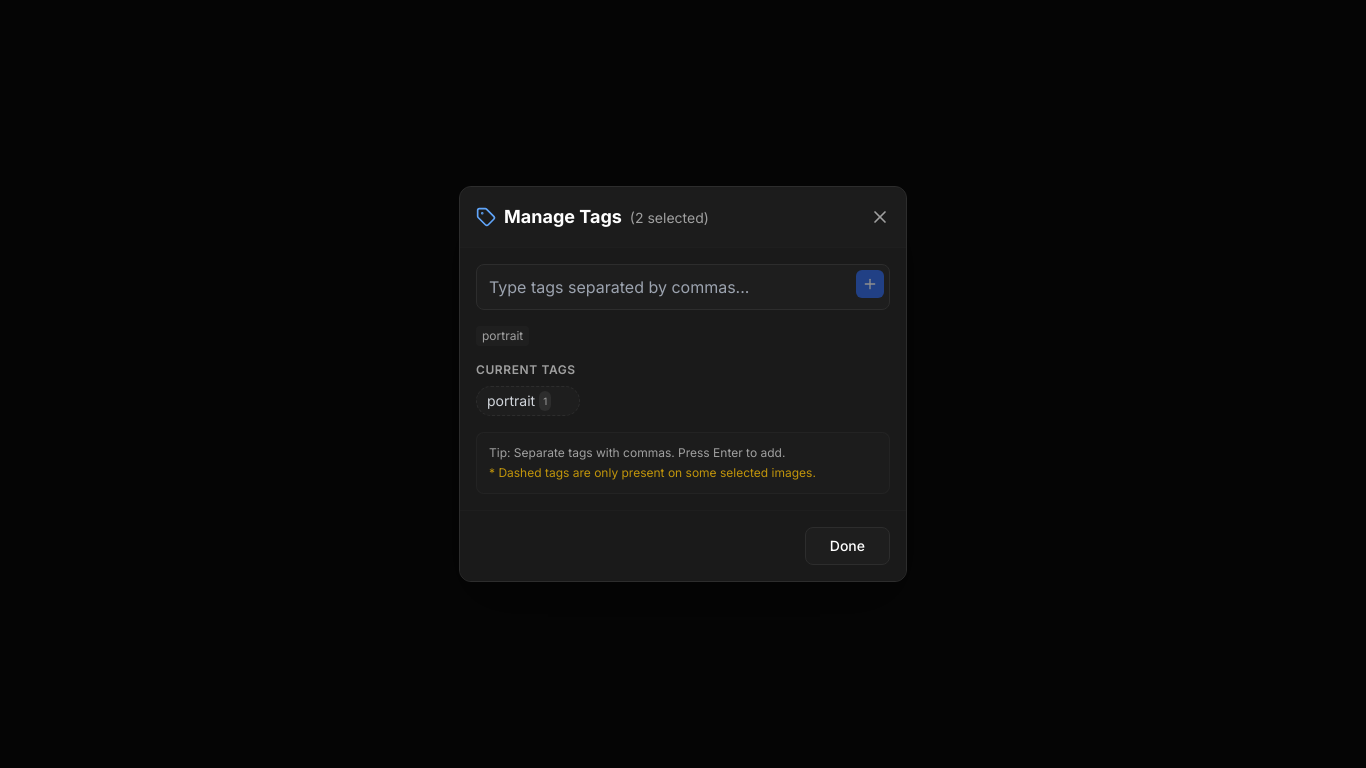
Scenario: TagManagerModal › suggests tags that are already present on part of the current selection
This screenshot has width=1366, height=768.
Type "por" into the field with placeholder "Type tags separated by commas...".
click(683, 287); type("por")  # box [476, 264, 890, 310]
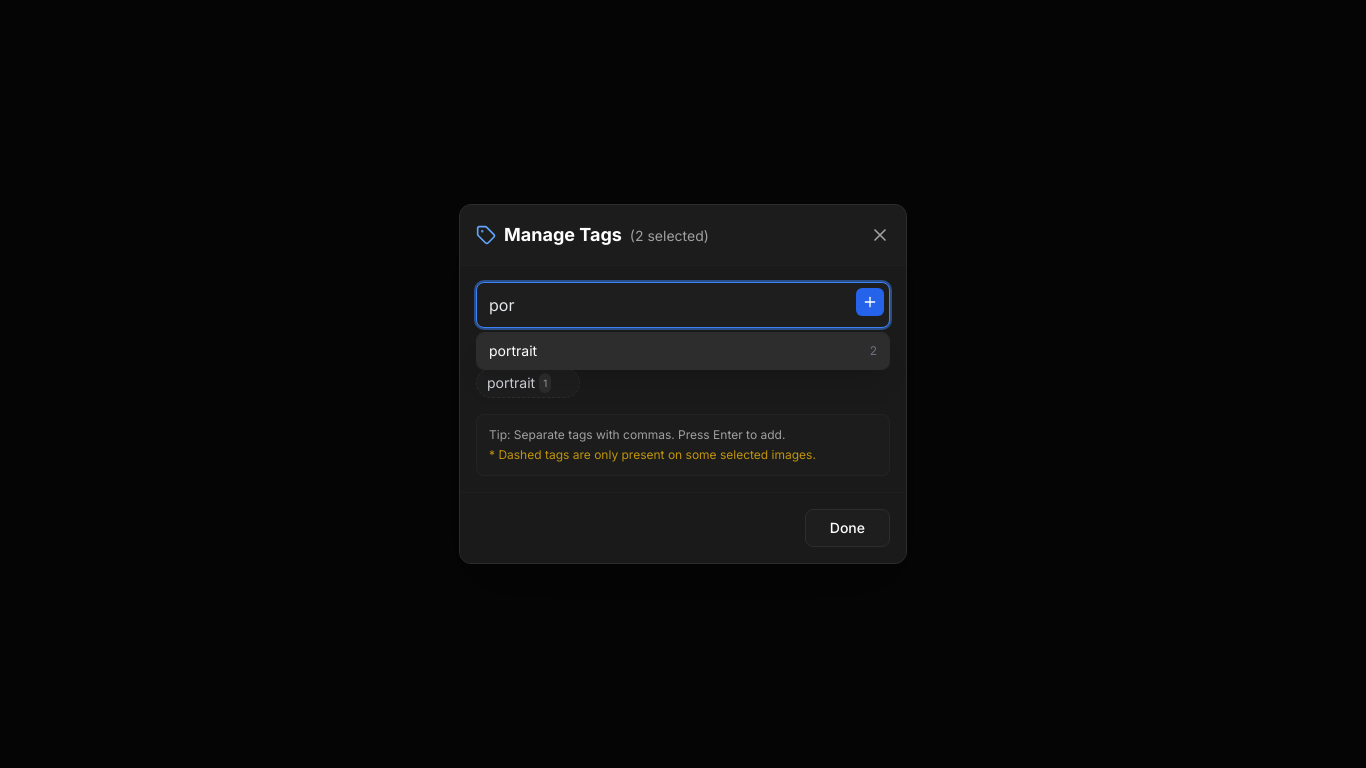
Check: the option "portrait 2" is shown, box [477, 333, 889, 369]
